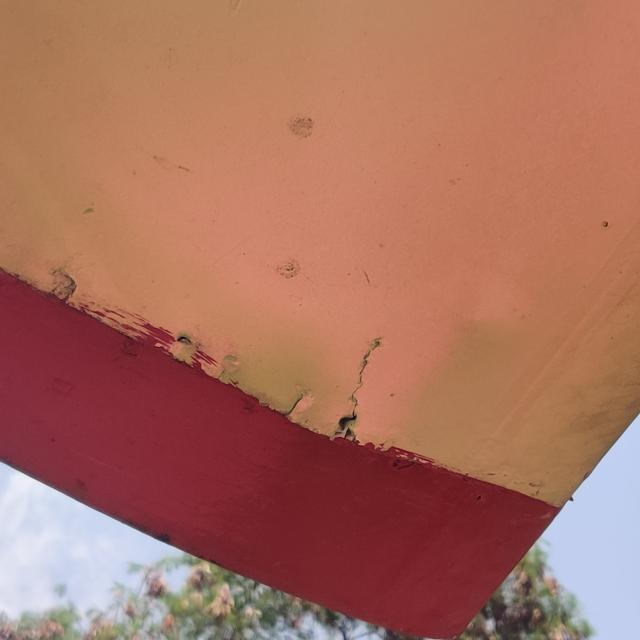crack: (329, 329, 391, 448), (275, 382, 314, 424)
